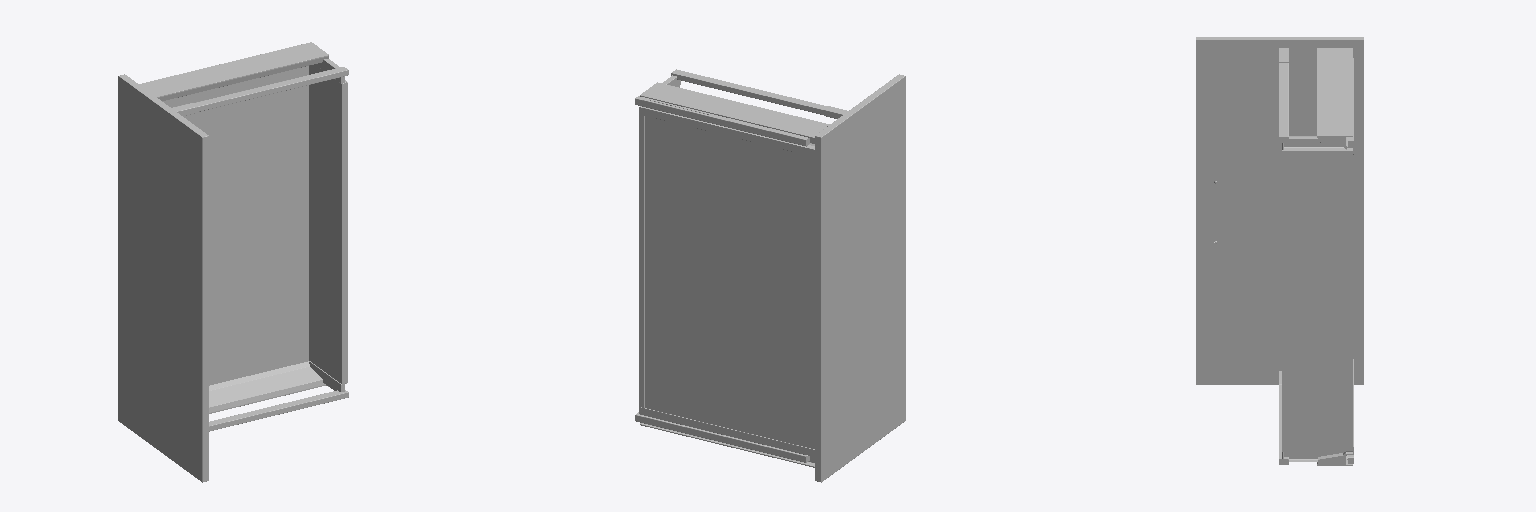
Rendered from SM_Kitchen_11_Drawer_03.obj.
3 views of the same model, side by side, from view 1: azimuth 30°, elevation 25°; view 2: azimuth 150°, elevation 25°; view 3: azimuth 270°, elevation 25° (orthographic).
Parts seen in each view (by area): view 1: SM_Kitchen_11_Drawer_03; view 2: SM_Kitchen_11_Drawer_03; view 3: SM_Kitchen_11_Drawer_03.
Part boxes in pixels (x1,y1,x2,y2): SM_Kitchen_11_Drawer_03: (118,42,348,482); SM_Kitchen_11_Drawer_03: (635,69,905,482); SM_Kitchen_11_Drawer_03: (1196,37,1363,465).
Bounding box in the file's own units: 0.5199 × 0.8969 × 0.396.